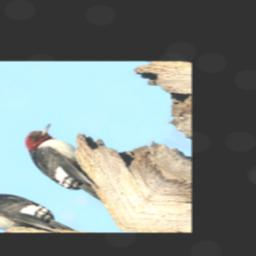Woodpecker: (8, 118, 130, 206)
